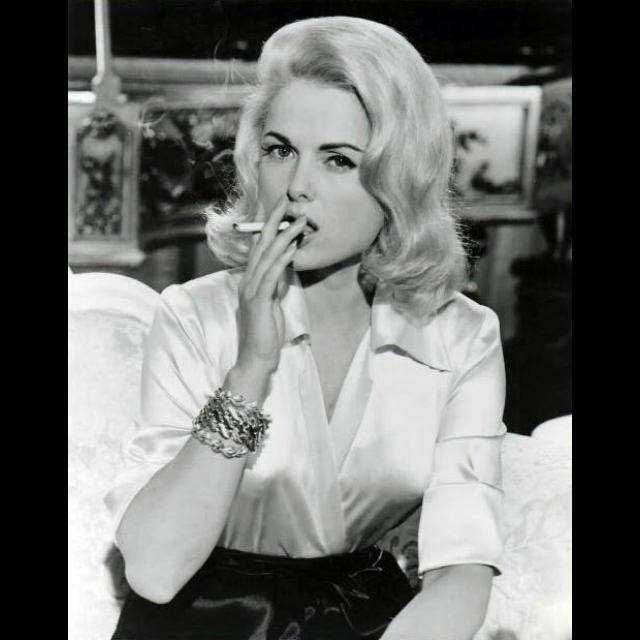rokok: (227, 214, 315, 240)
